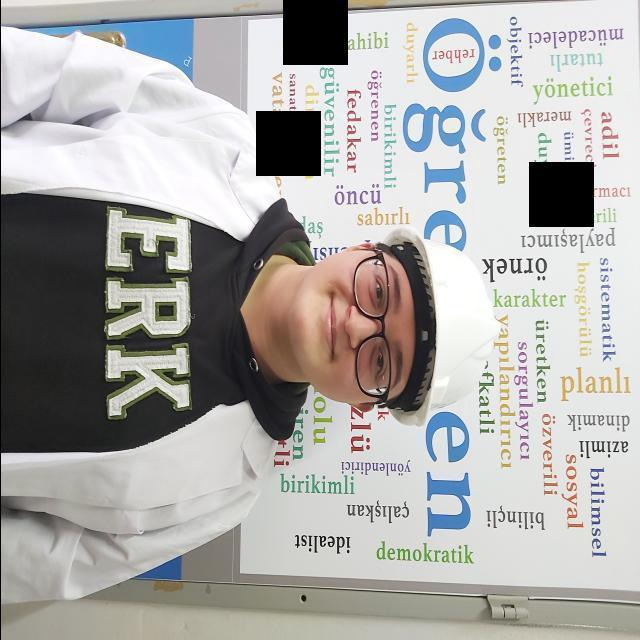helmet: (373, 224, 499, 427)
